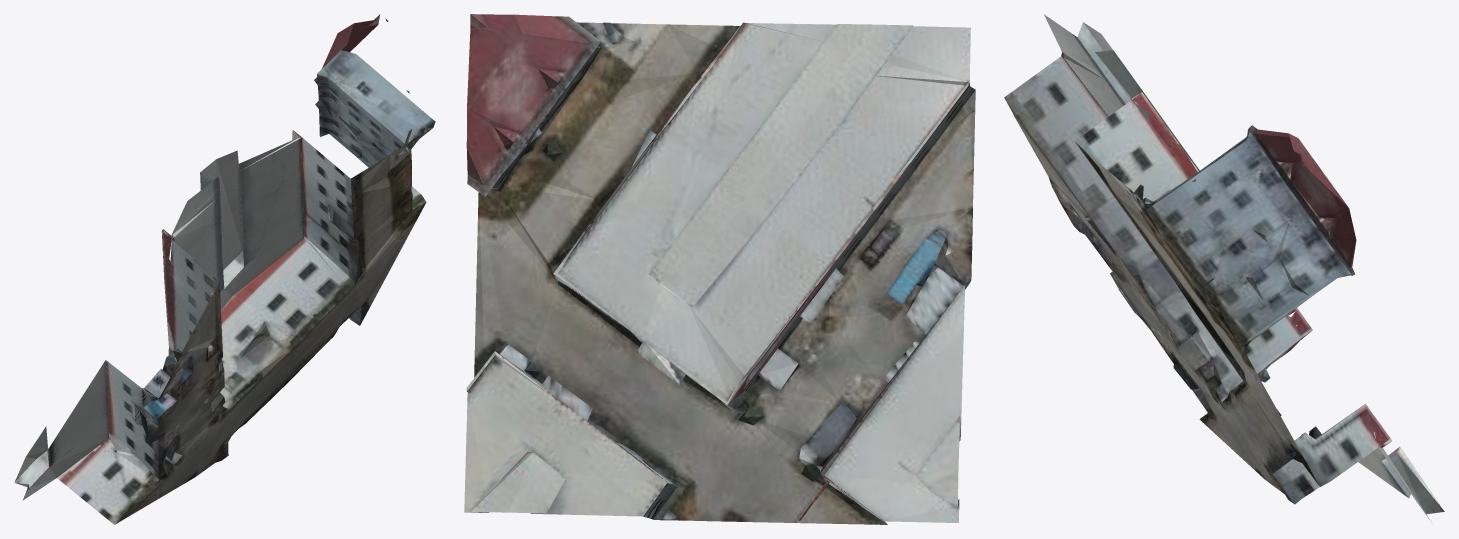
The model's file is gen18.glb.
3 renders of one model, left to right at view 1: azimuth 30°, elevation 25°; view 2: azimuth 150°, elevation 25°; view 3: azimuth 270°, elevation 25°, orthographic. The views are drawn at different scales.
Visible parts, largest first — view 1: Tile_0016_0014_0019.osgb; view 2: Tile_0016_0014_0019.osgb; view 3: Tile_0016_0014_0019.osgb.
Part boxes in pixels (bbox=[...]): Tile_0016_0014_0019.osgb: bbox=[14, 14, 435, 524]; Tile_0016_0014_0019.osgb: bbox=[464, 14, 975, 524]; Tile_0016_0014_0019.osgb: bbox=[1004, 14, 1444, 523].
Bounding box in the file's own units: 56.31 × 52.74 × 48.32.
Materials: 1 (1 with a texture image).
